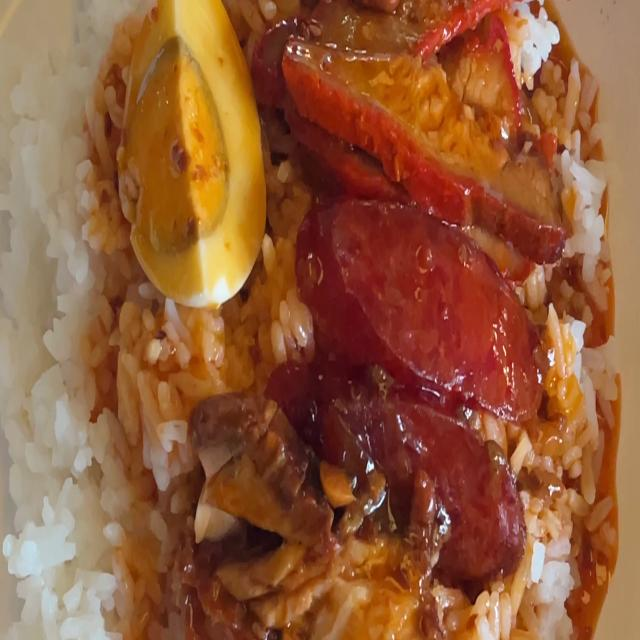01boiled_egg: (138, 22, 240, 285)
01chainese_sausage: (289, 214, 523, 510)
01crispy_pork: (204, 420, 304, 606), (299, 529, 464, 640)
01red_pork: (281, 0, 542, 214)
01red_pork_and_crispy_pork: (6, 0, 612, 640)
01rice: (19, 0, 126, 640), (106, 294, 195, 640)
